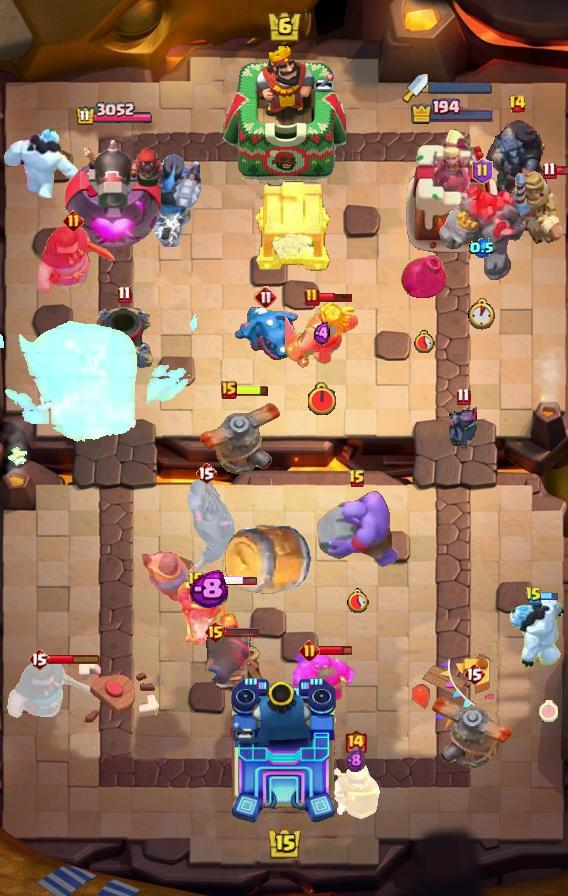archer-queen: (313, 489, 401, 569)
baby-dragon: (398, 250, 450, 304)
bar: (403, 124, 503, 256)
battle-ram: (447, 405, 480, 452)
bomb: (253, 178, 333, 272)
cannoneer-tower: (436, 183, 528, 283)
dark-prince: (193, 389, 283, 479), (429, 683, 519, 773)
dirt: (222, 523, 314, 597)
earthquake: (329, 751, 381, 821)
electro-spirit: (188, 570, 227, 609), (469, 238, 495, 258), (345, 747, 365, 772), (314, 322, 330, 346)
elixir: (306, 383, 338, 418), (467, 298, 497, 330), (347, 588, 370, 613), (413, 330, 435, 353), (539, 700, 558, 722)
emote: (203, 573, 258, 586), (48, 653, 101, 665), (234, 384, 270, 397), (318, 643, 353, 656), (224, 626, 260, 638), (318, 292, 354, 303), (541, 590, 559, 602), (554, 164, 568, 175)
firecracker: (142, 550, 202, 602)
freeze: (176, 580, 240, 648)
goblin-hut: (284, 299, 359, 370)
golemite: (175, 480, 237, 584)
graveyard: (232, 303, 300, 363)
inferno-dragon: (483, 117, 551, 205), (144, 151, 204, 247)
king-tower: (223, 43, 345, 181), (228, 676, 340, 826)
king-tower-bar: (428, 82, 492, 94)
mega-knight: (0, 300, 202, 446)
musketeer: (93, 304, 155, 372)
rage: (4, 128, 78, 198), (504, 597, 568, 673)
ram-rider: (504, 168, 568, 246)
royal-giant-evolution: (199, 635, 267, 705)
royal-hog: (31, 223, 115, 299), (4, 656, 100, 722)
selected: (410, 98, 496, 126), (74, 101, 154, 126)
text: (344, 728, 369, 759), (254, 285, 278, 309), (205, 620, 228, 644), (472, 158, 493, 184), (195, 461, 217, 485), (28, 647, 50, 671), (463, 662, 485, 686), (64, 210, 85, 231), (300, 639, 321, 660), (509, 94, 528, 114), (348, 469, 366, 489), (187, 571, 205, 591), (525, 586, 543, 606), (304, 287, 320, 307), (221, 381, 237, 399), (456, 386, 471, 405), (543, 161, 557, 179), (117, 285, 131, 303)
tornado: (293, 652, 357, 702)
tower-bar: (60, 132, 167, 256)
